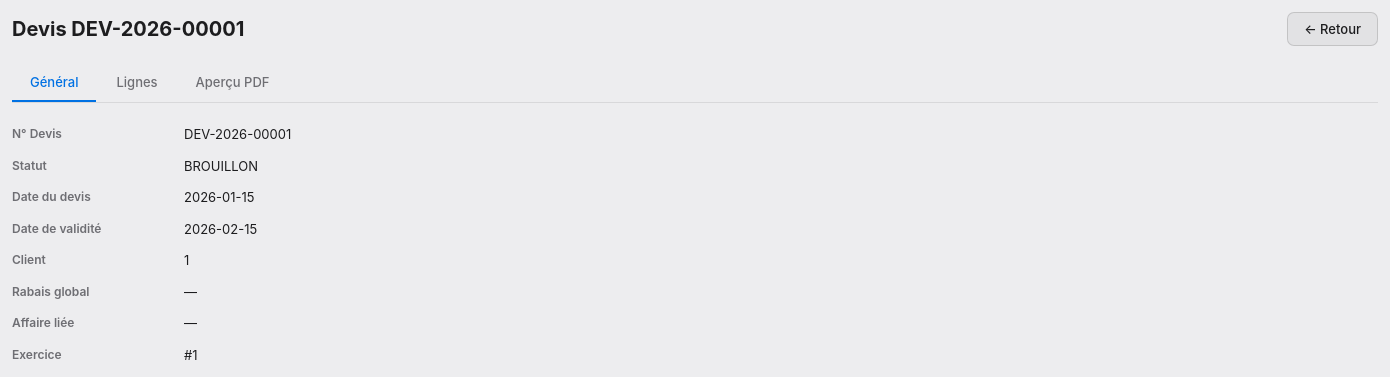
it: R11 - Fiche Devis › affiche l'onglet Lignes avec les lignes du devis
Click the tab "Lignes": (137, 83) top-left (98, 64), bottom-right (176, 102)
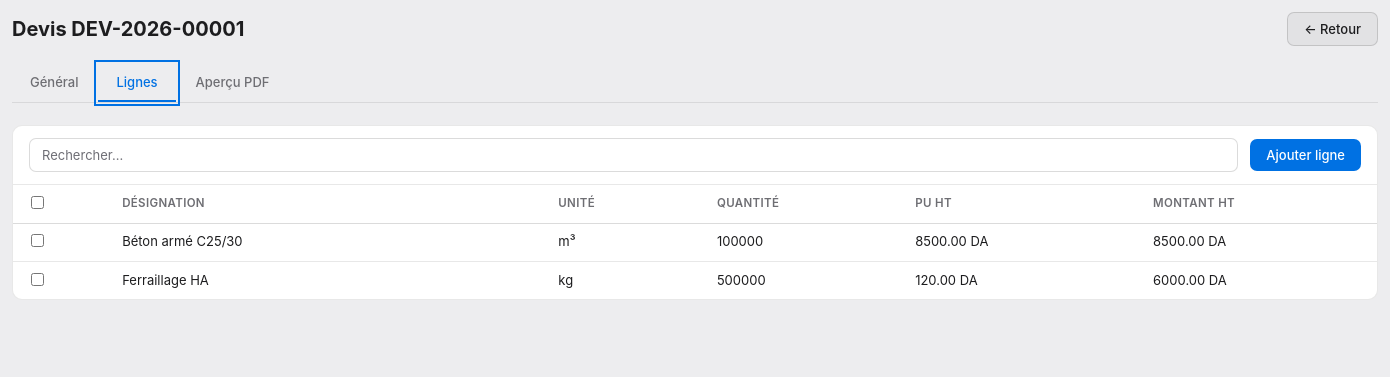
Check: the text "Béton armé C25/30" is shown, box top-left (108, 223), bottom-right (544, 261)
Check: the text "Ferraillage HA" is shown, box top-left (108, 261), bottom-right (544, 299)
